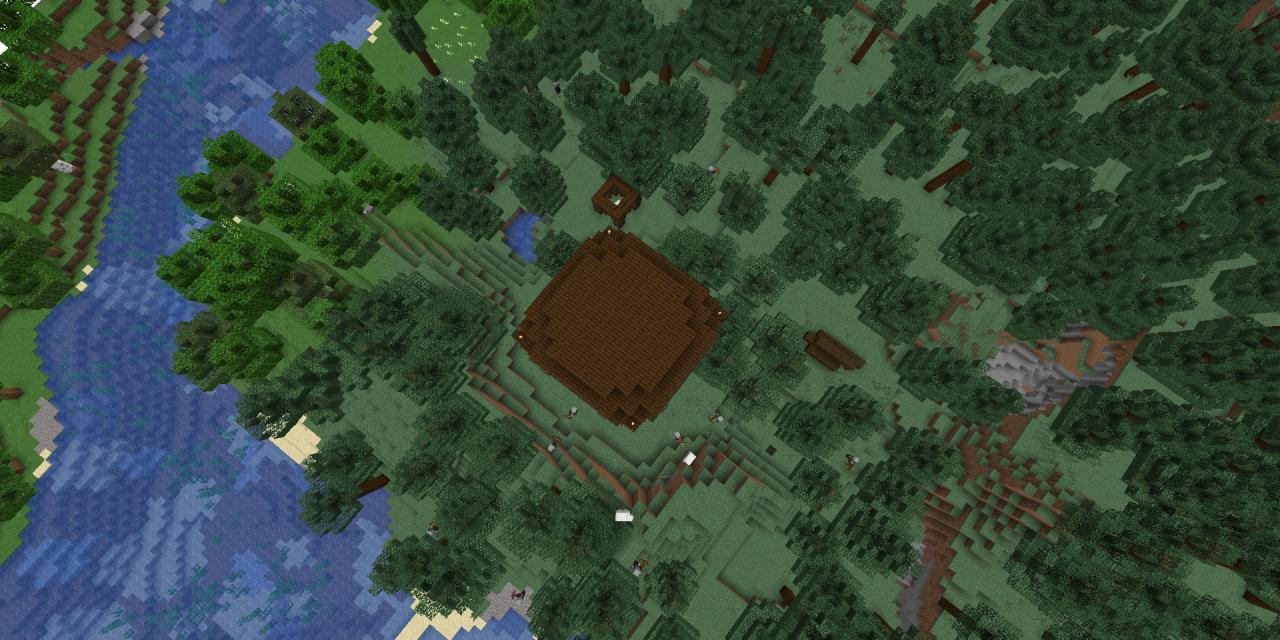pillager outpost: (507, 214, 738, 438)
